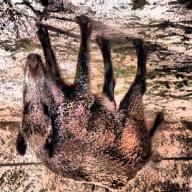boar: (8, 19, 163, 191)
